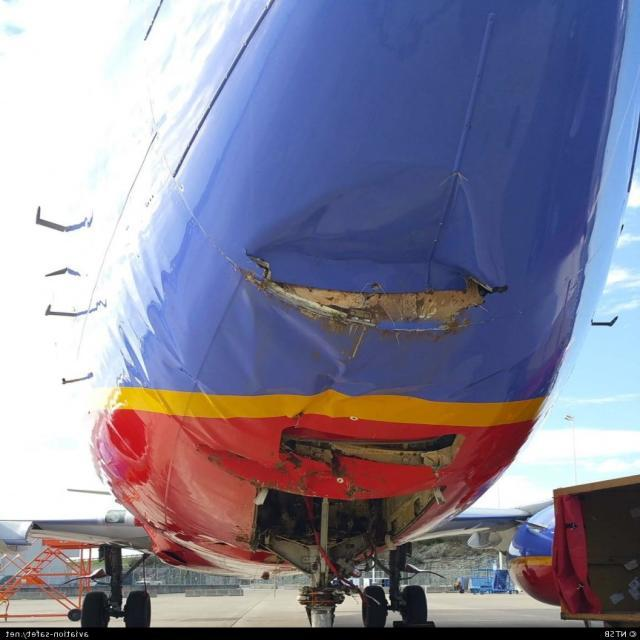dent: (248, 169, 536, 309), (249, 292, 348, 379)
